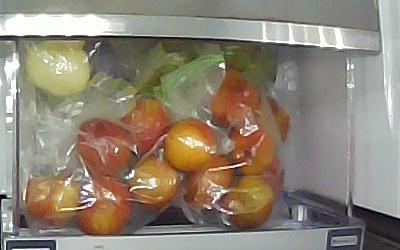prune_vinyl: (77, 120, 137, 177), (217, 175, 275, 231), (207, 69, 262, 127), (26, 171, 82, 227), (79, 178, 131, 235), (129, 156, 181, 211), (166, 118, 217, 172), (123, 98, 170, 156), (183, 157, 232, 210), (226, 122, 274, 175), (259, 96, 289, 144)
